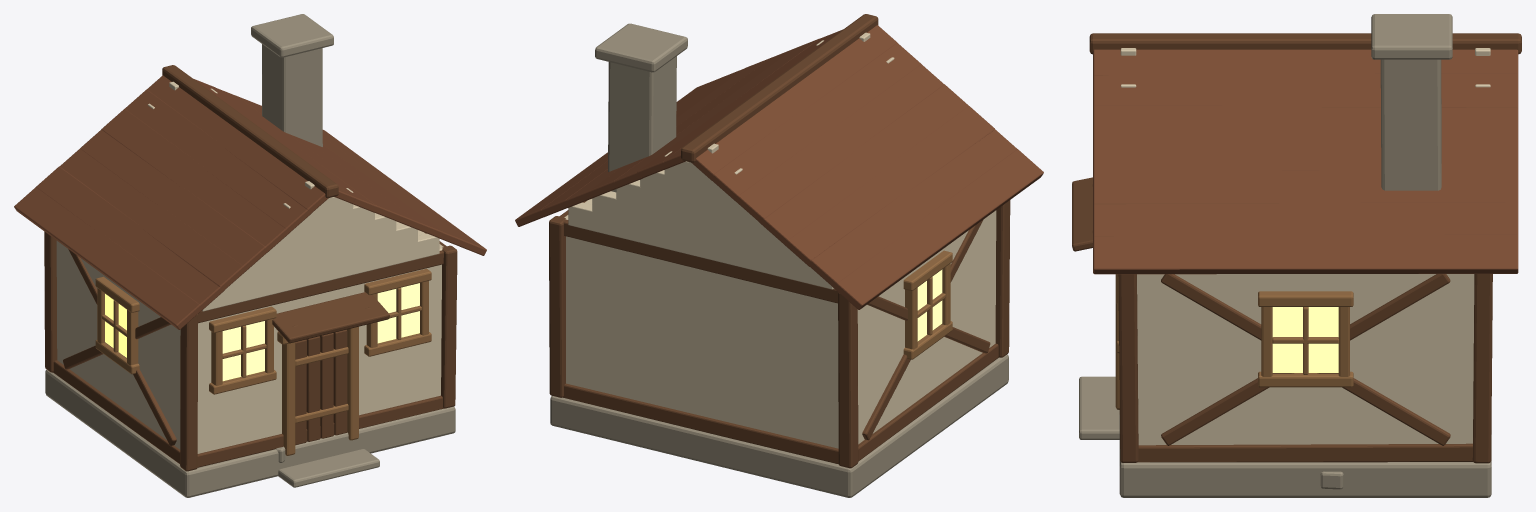
File: maison_b.glb
3 views of the same model, side by side, from view 1: azimuth 30°, elevation 25°; view 2: azimuth 150°, elevation 25°; view 3: azimuth 270°, elevation 25° (orthographic). The views are drawn at different scales.
Parts seen in each view (by area): view 1: maison_b; view 2: maison_b; view 3: maison_b.
Part boxes in pixels (box(x1,y1,x2,y2)): maison_b: box(14, 14, 486, 497); maison_b: box(515, 14, 1043, 497); maison_b: box(1072, 14, 1521, 497).
Bounding box in the file's own units: 6.61 × 6.8 × 6.35.
